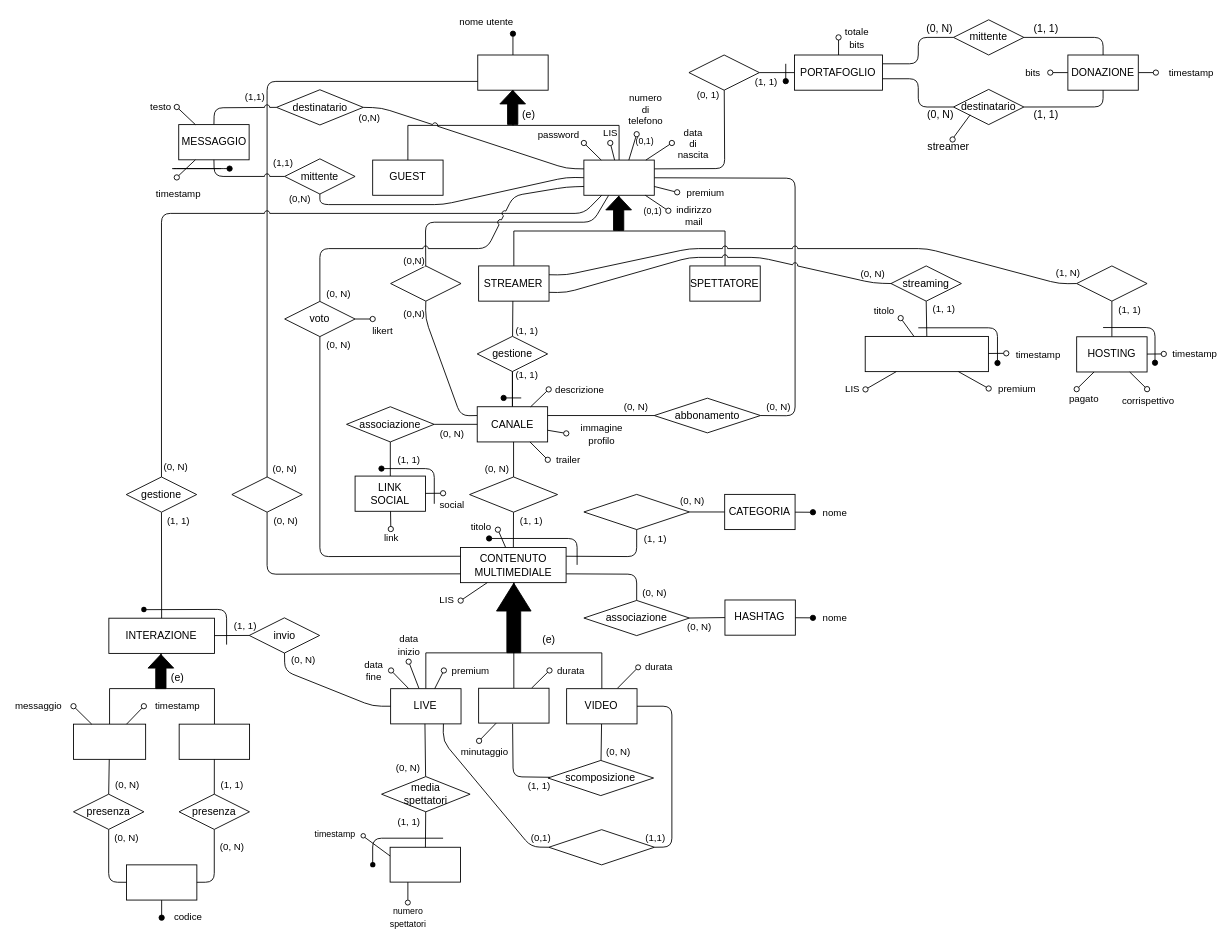
This 1232x950 diagram has some shape labels left out. Each missing label, with the box of its shape:
(s): (605, 195, 631, 230)
AFFLUENZA: (389, 846, 461, 882)
appartenenza: (583, 494, 689, 530)
CLIP: (478, 687, 549, 723)
COMMENTO: (73, 723, 146, 759)
contenitore: (469, 476, 558, 512)
conto: (688, 54, 759, 90)
EMOJI: (126, 864, 197, 900)
follower: (390, 265, 461, 301)
PROGRAMMAZIONE: (864, 336, 988, 372)
REAZIONE: (178, 723, 250, 759)
REGISTRATO: (583, 159, 654, 195)
riferimento: (548, 829, 654, 865)
rinnovo: (1076, 265, 1147, 301)
UTENTE: (477, 54, 548, 90)
visita: (231, 476, 302, 512)
